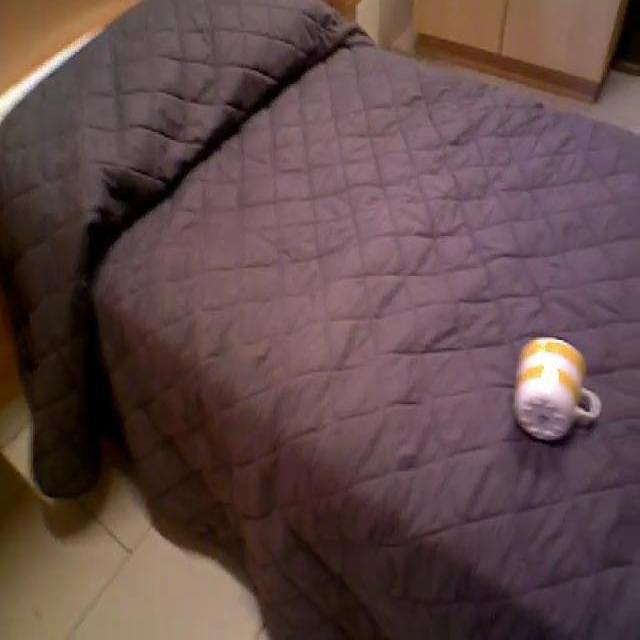cup: (510, 338, 608, 446)
